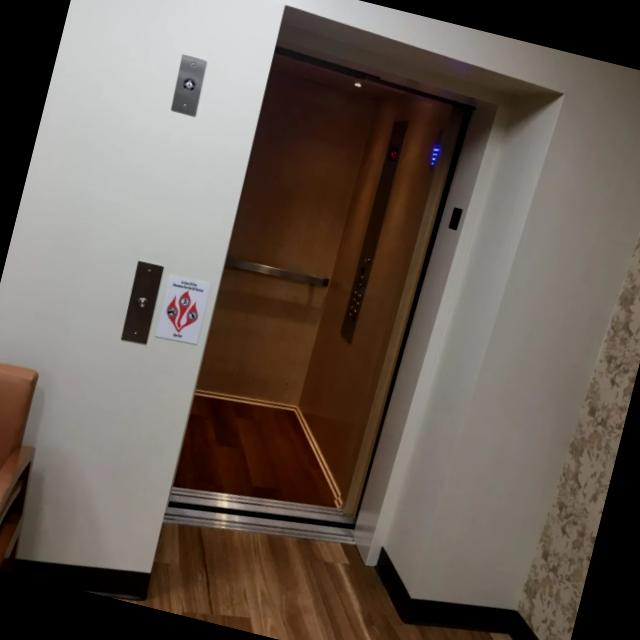elevator: (53, 0, 568, 634)
